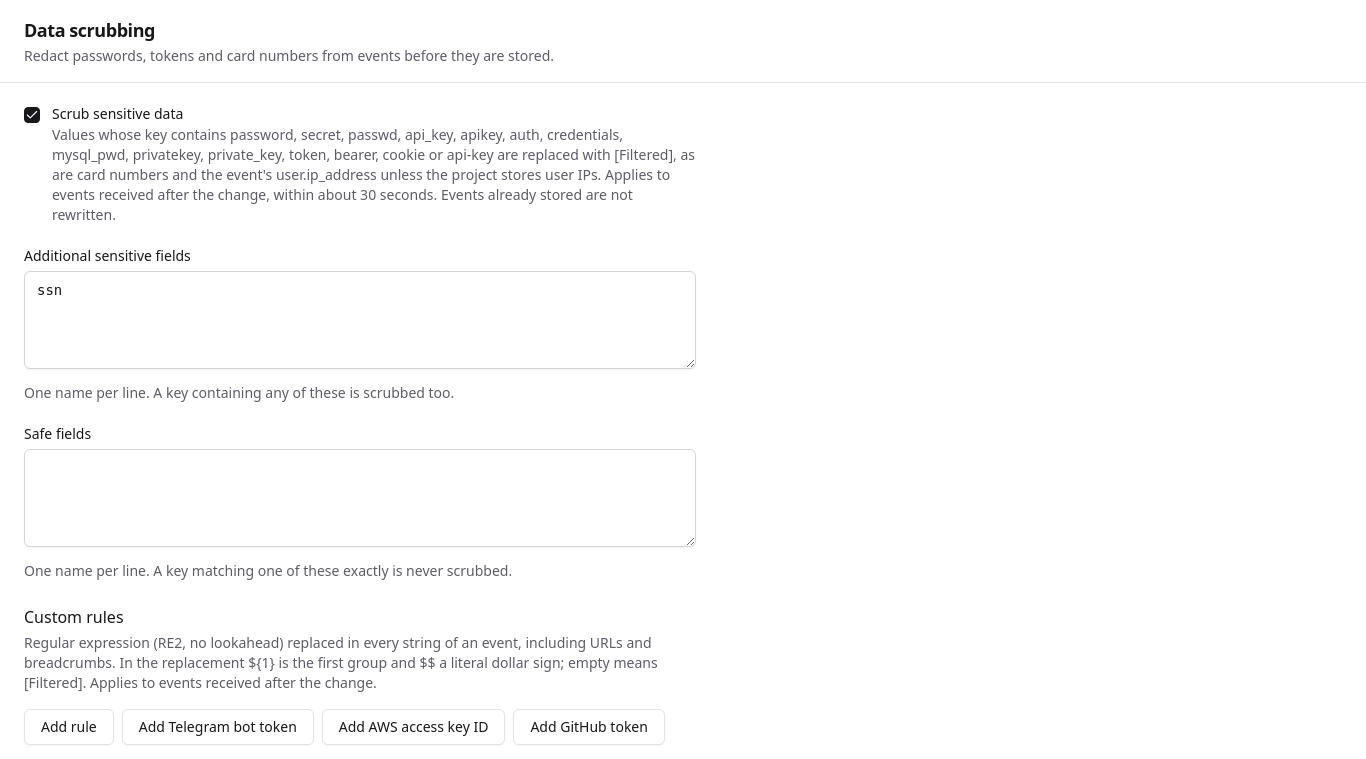
Test: DataScrubbingPage › disables the field lists while scrubbing is switched off
Expected: the text box labelled "Additional sensitive fields" is enabled, [24,271,696,369]
Click the checkbox named "Scrub sensitive data": click(32, 115) [24,107,40,123]
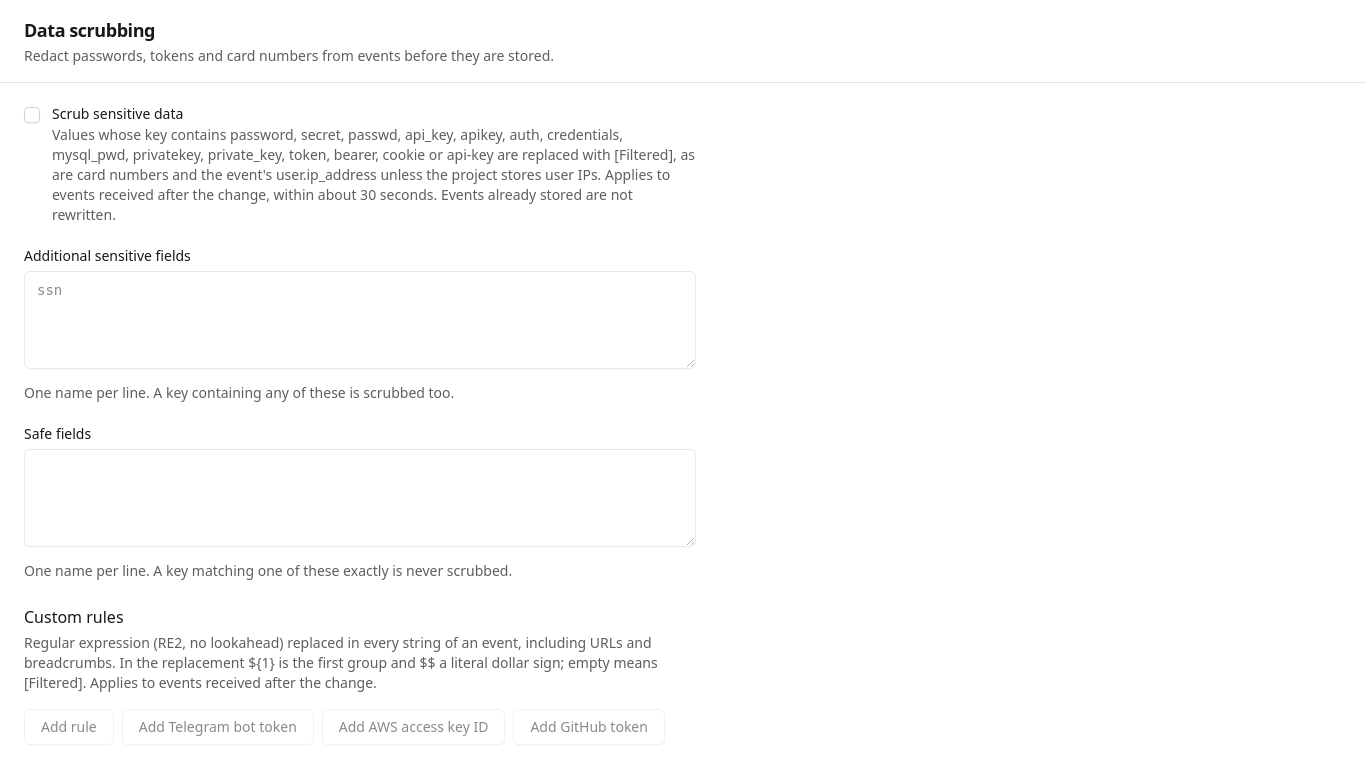
Expected: the text box labelled "Safe fields" is disabled, [24,449,696,547]
Expected: the text box labelled "Additional sensitive fields" is disabled, [24,271,696,369]
